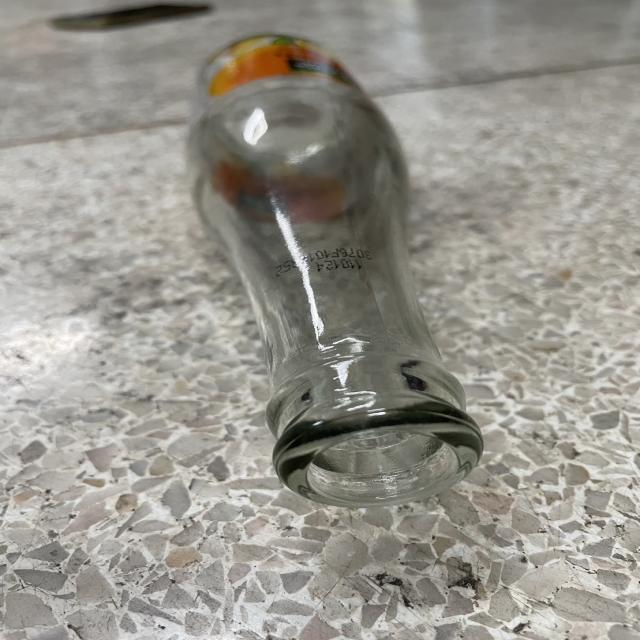glass-bottle: (147, 22, 526, 515)
